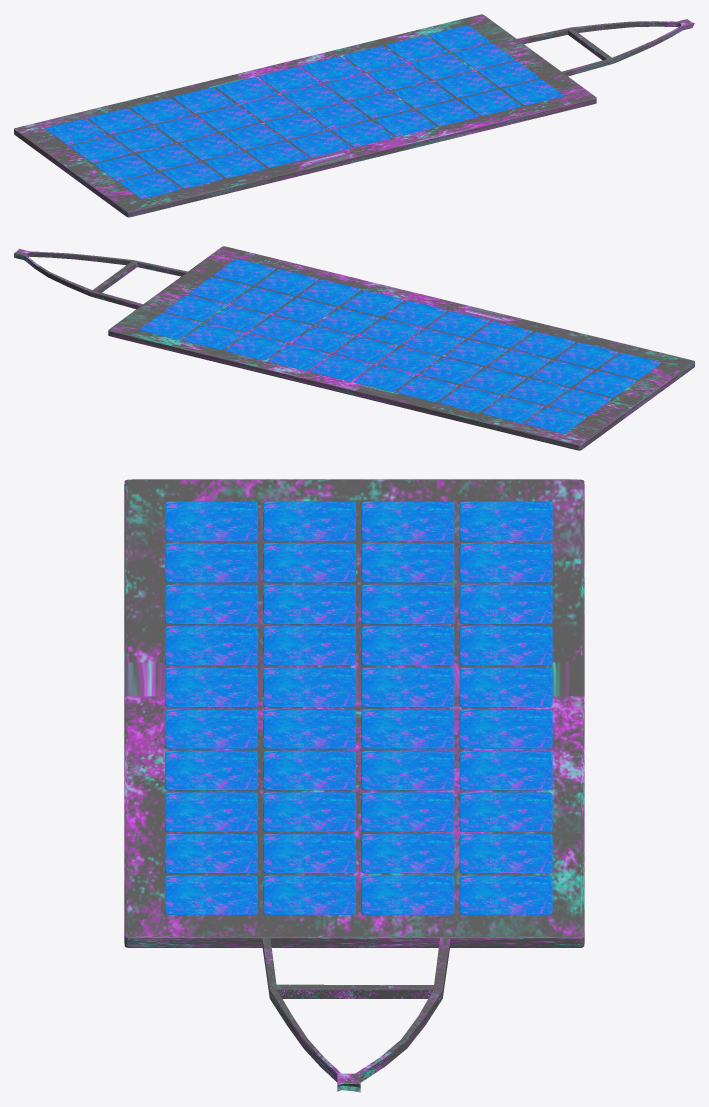
File: Placa.fbx
3 renders of one model, top to bottom at view 1: azimuth 30°, elevation 25°; view 2: azimuth 150°, elevation 25°; view 3: azimuth 270°, elevation 25°, orthographic. The views are drawn at different scales.
Visible parts, largest first — view 1: pCube2, pCube4 (×10), pCube6 (×10), pCube3 (×10), pCube5 (×10); view 2: pCube2, pCube3 (×10), pCube6 (×10), pCube4 (×10), pCube5 (×10); view 3: pCube2, pCube4 (×10), pCube3 (×10), pCube5 (×10), pCube6 (×10).
Boxes of the visible parts, x1=… form: pCube2: x1=14, y1=14, x2=694, y2=217; pCube4 (×10): x1=70, y1=43, x2=514, y2=162; pCube6 (×10): x1=119, y1=79, x2=563, y2=198; pCube3 (×10): x1=45, y1=25, x2=489, y2=144; pCube5 (×10): x1=94, y1=61, x2=539, y2=180; pCube2: x1=14, y1=246, x2=694, y2=450; pCube3 (×10): x1=139, y1=313, x2=586, y2=433; pCube6 (×10): x1=213, y1=258, x2=660, y2=379; pCube4 (×10): x1=164, y1=295, x2=611, y2=415; pCube5 (×10): x1=189, y1=277, x2=636, y2=397; pCube2: x1=124, y1=479, x2=584, y2=1092; pCube4 (×10): x1=361, y1=501, x2=454, y2=914; pCube3 (×10): x1=459, y1=501, x2=552, y2=914; pCube5 (×10): x1=263, y1=501, x2=356, y2=914; pCube6 (×10): x1=165, y1=501, x2=257, y2=914.
Bounding box in the file's own units: 13.11 × 0.1311 × 4.21.
